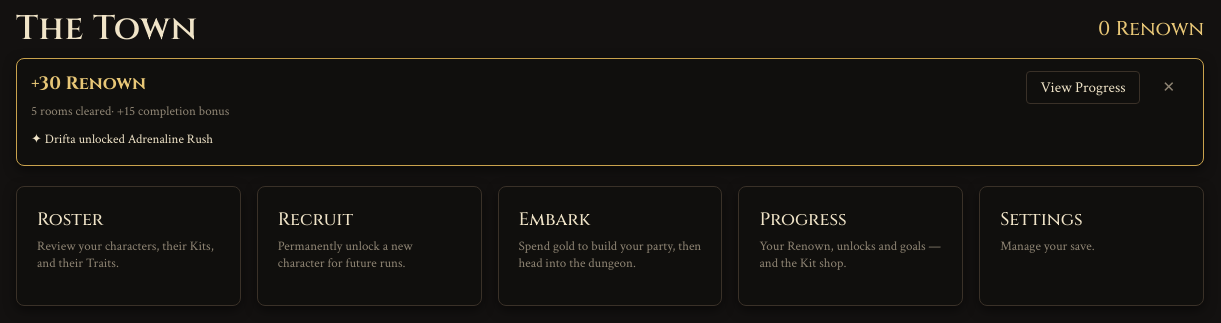
TownPhase › shows the last run's reward toast once, and dismisses it
Expected: the text "+30 Renown" is shown, [31,71,146,96]
Expected: the text "✦ Drifta unlocked Adrenaline Rush" is shown, [31,127,229,153]
What coordinates should you click on to do the following:
click the button named "Dismiss"
I would click on:
 (1169, 88)
Its box is [1148,72,1189,103].
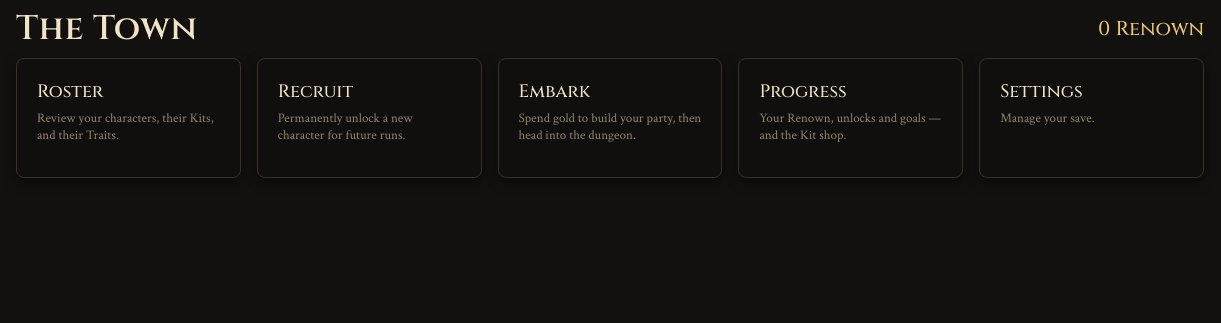
Expected: the text "+30 Renown" is gone
